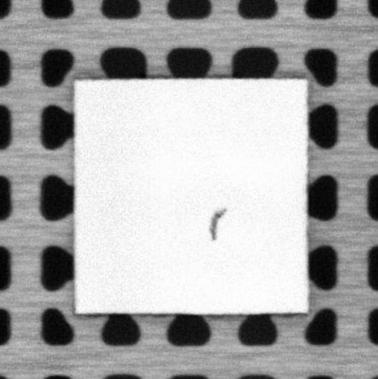DIE_INK: (208, 206, 228, 239)
